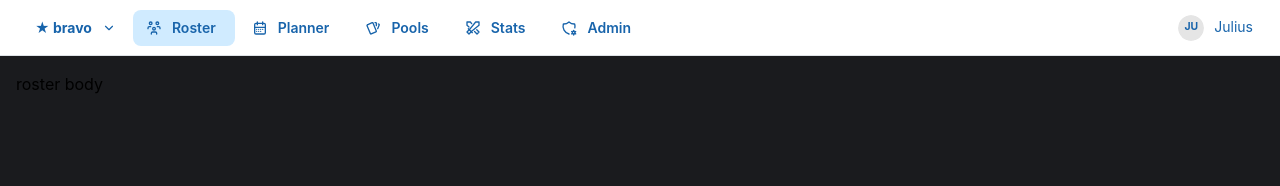
it: AppLayout navigation › the user menu offers a way to the player’s own profile
The width and height of the screenshot is (1280, 186).
Step 1. Click the button "JU Julius" → (1216, 28), box x1=1167 y1=10 x2=1264 y2=46
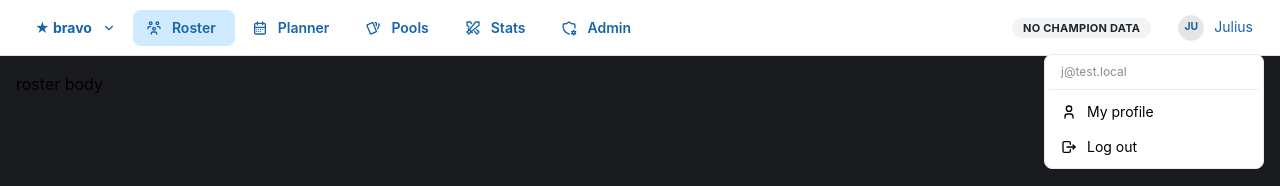
Now the menu item "My profile" is shown, box x1=1049 y1=94 x2=1259 y2=129
